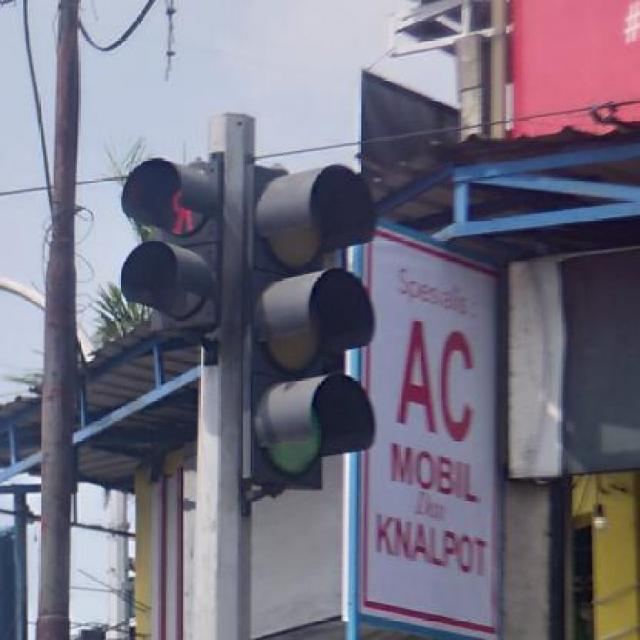traffic light: (243, 166, 346, 495)
